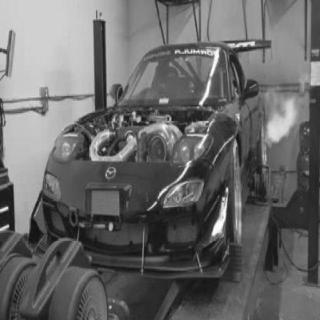other: (186, 110, 210, 141)
